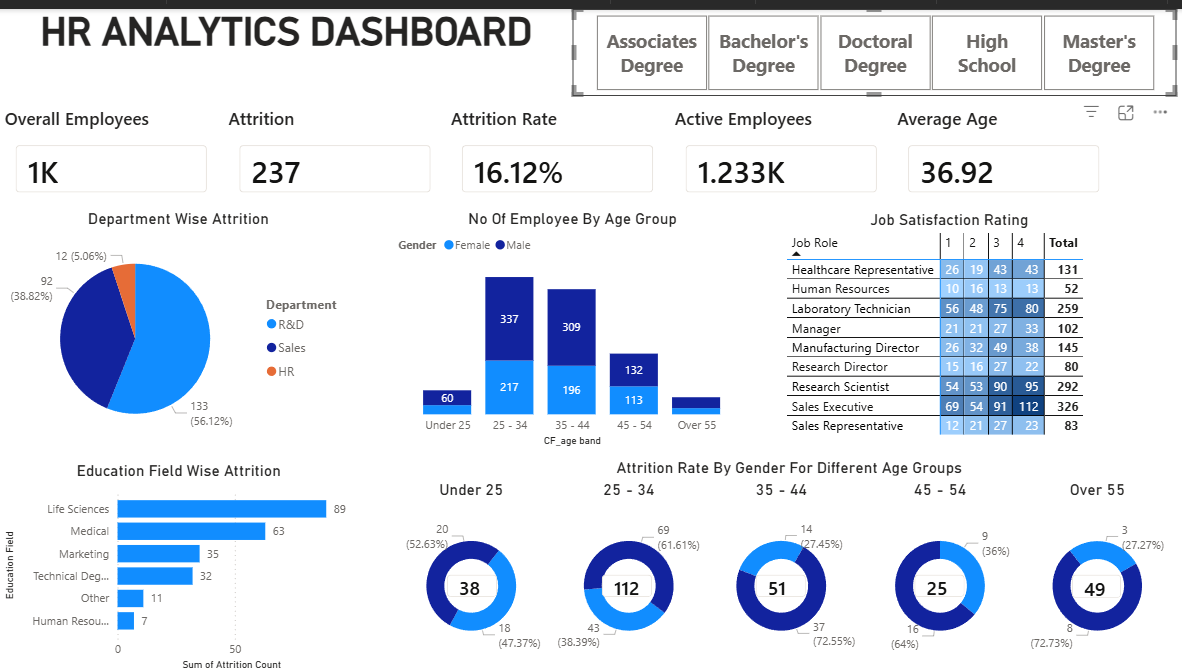

The dashboard page shown, as its layout file describes it:
{"tool":"powerbi","page":{"name":"Page 1","canvas":[1280,720],"ordinal":0},"visuals":[{"type":"cardVisual","title":"Overall Employees","fields":{"Data":["Sum(HR data.Employee Count)"]},"box":[0,105.1,240.3,110.7],"z":0},{"type":"cardVisual","title":"Attrition","fields":{"Data":["Sum(HR data.Attrition Count)"]},"box":[240.3,105.1,240.3,110.7],"z":1000},{"type":"cardVisual","title":"Attrition Rate","fields":{"Data":["HR data.Attrition Rate"]},"box":[480.7,105.1,240.3,110.7],"z":2000},{"type":"cardVisual","title":"Active Employees","fields":{"Data":["HR data.Active Employees"]},"box":[721,105.1,240.3,110.7],"z":3000},{"type":"cardVisual","title":"Average Age","fields":{"Data":["Avg(HR data.Age)"]},"box":[961.3,105.1,240.3,110.7],"z":4000},{"type":"pieChart","title":"Department Wise Attrition","fields":{"Category":["HR data.Department"],"Y":["Sum(HR data.Attrition Count)"]},"box":[0,215.8,384.5,260.7],"z":5000},{"type":"columnChart","title":"No Of Employee By Age Group","fields":{"Category":["HR data.CF_age band"],"Y":["Sum(HR data.Employee Count)"],"Series":["HR data.Gender"]},"box":[423.5,215.2,385.4,261.1],"z":6000},{"type":"pivotTable","title":"Job Satisfaction Rating","fields":{"Rows":["HR data.Job Role"],"Columns":["HR data.Job Satisfaction"],"Values":["Sum(HR data.Employee Count)"]},"box":[842.7,216.7,359.4,259.8],"z":7000},{"type":"barChart","title":"Education Field Wise Attrition","fields":{"Category":["HR data.Education Field"],"Y":["Sum(HR data.Attrition Count)"]},"box":[0,487.3,385,230.2],"z":8000},{"type":"donutChart","title":"Under 25","fields":{"Category":["HR data.Gender"],"Y":["Sum(HR data.Attrition Count)"],"Series":["HR data.CF_age band"]},"box":[422.9,508,170,208.6],"z":9000},{"type":"textbox","title":"Attrition Rate By Gender For Different Age Groups","box":[422.7,483.3,854.9,24.2],"z":10000},{"type":"donutChart","title":"25 - 34","fields":{"Category":["HR data.Gender"],"Y":["Sum(HR data.Attrition Count)"],"Series":["HR data.CF_age band"]},"box":[592.9,508,170,208.6],"z":11000},{"type":"donutChart","title":"35 - 44","fields":{"Category":["HR data.Gender"],"Y":["Sum(HR data.Attrition Count)"],"Series":["HR data.CF_age band"]},"box":[757.1,508,170,208.6],"z":12000},{"type":"donutChart","title":"45 - 54","fields":{"Category":["HR data.Gender"],"Y":["Sum(HR data.Attrition Count)"],"Series":["HR data.CF_age band"]},"box":[927.1,508,170,208.6],"z":13000},{"type":"donutChart","title":"Over 55","fields":{"Category":["HR data.Gender"],"Y":["Sum(HR data.Attrition Count)"],"Series":["HR data.CF_age band"]},"box":[1097.2,507.5,169.6,208.7],"z":14000},{"type":"cardVisual","fields":{"Data":["Sum(HR data.Attrition Count)"]},"box":[464.3,592.3,88.6,58.6],"z":15000},{"type":"cardVisual","fields":{"Data":["Sum(HR data.Attrition Count)"]},"box":[631.4,592.3,88.6,58.6],"z":16000},{"type":"cardVisual","fields":{"Data":["Sum(HR data.Attrition Count)"]},"box":[797.1,592.3,88.6,58.6],"z":17000},{"type":"cardVisual","fields":{"Data":["Sum(HR data.Attrition Count)"]},"box":[968.6,592.3,88.6,58.6],"z":18000},{"type":"cardVisual","fields":{"Data":["Sum(HR data.Attrition Count)"]},"box":[1137.6,592.3,87.5,59.2],"z":19000},{"type":"textbox","title":"HR ANALYTICS DASHBOARD","box":[0,0,616.6,94.2],"z":20000},{"type":"slicer","fields":{"Values":["HR data.Education"]},"box":[616.6,0,650.2,94.2],"z":21000}]}

Visuals, with their boxes in screenshot pixels (x1, y1, x2, y2), scaled from the page's 1280x720 canvas onto the 1182x671 screenshot:
"Overall Employees" cardVisual: <box>0,98,222,201</box>
"Attrition" cardVisual: <box>222,98,444,201</box>
"Attrition Rate" cardVisual: <box>444,98,666,201</box>
"Active Employees" cardVisual: <box>666,98,888,201</box>
"Average Age" cardVisual: <box>888,98,1110,201</box>
"Department Wise Attrition" pieChart: <box>0,201,355,444</box>
"No Of Employee By Age Group" columnChart: <box>391,201,747,444</box>
"Job Satisfaction Rating" pivotTable: <box>778,202,1110,444</box>
"Education Field Wise Attrition" barChart: <box>0,454,356,669</box>
"Under 25" donutChart: <box>391,473,548,668</box>
"Attrition Rate By Gender For Different Age Groups" textbox: <box>390,450,1180,473</box>
"25 - 34" donutChart: <box>548,473,704,668</box>
"35 - 44" donutChart: <box>699,473,856,668</box>
"45 - 54" donutChart: <box>856,473,1013,668</box>
"Over 55" donutChart: <box>1013,473,1170,667</box>
cardVisual - Sum(HR data.Attrition Count): <box>429,552,511,607</box>
cardVisual - Sum(HR data.Attrition Count): <box>583,552,665,607</box>
cardVisual - Sum(HR data.Attrition Count): <box>736,552,818,607</box>
cardVisual - Sum(HR data.Attrition Count): <box>894,552,976,607</box>
cardVisual - Sum(HR data.Attrition Count): <box>1051,552,1131,607</box>
"HR ANALYTICS DASHBOARD" textbox: <box>0,0,569,88</box>
slicer - HR data.Education: <box>569,0,1170,88</box>
